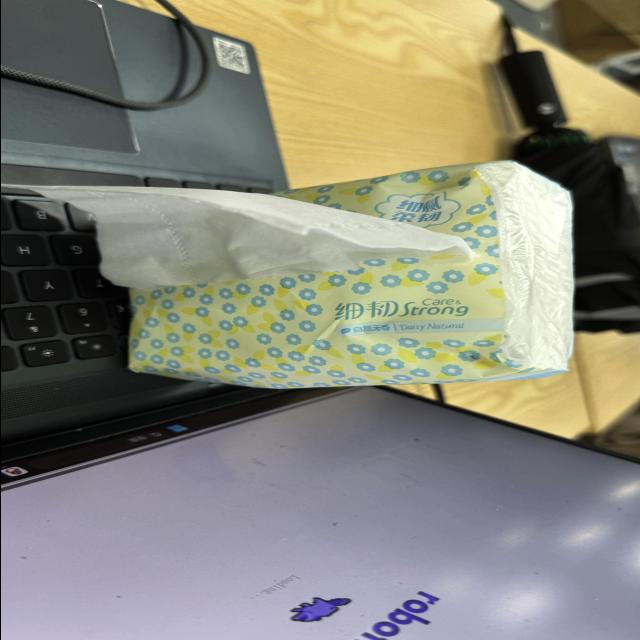tissue: (32, 162, 571, 388), (128, 162, 572, 388), (37, 187, 472, 288)
